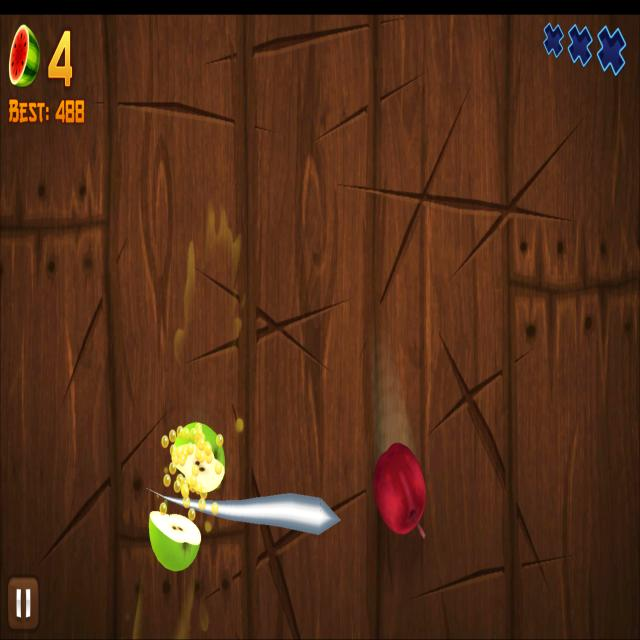fruit: (373, 440, 426, 536)
